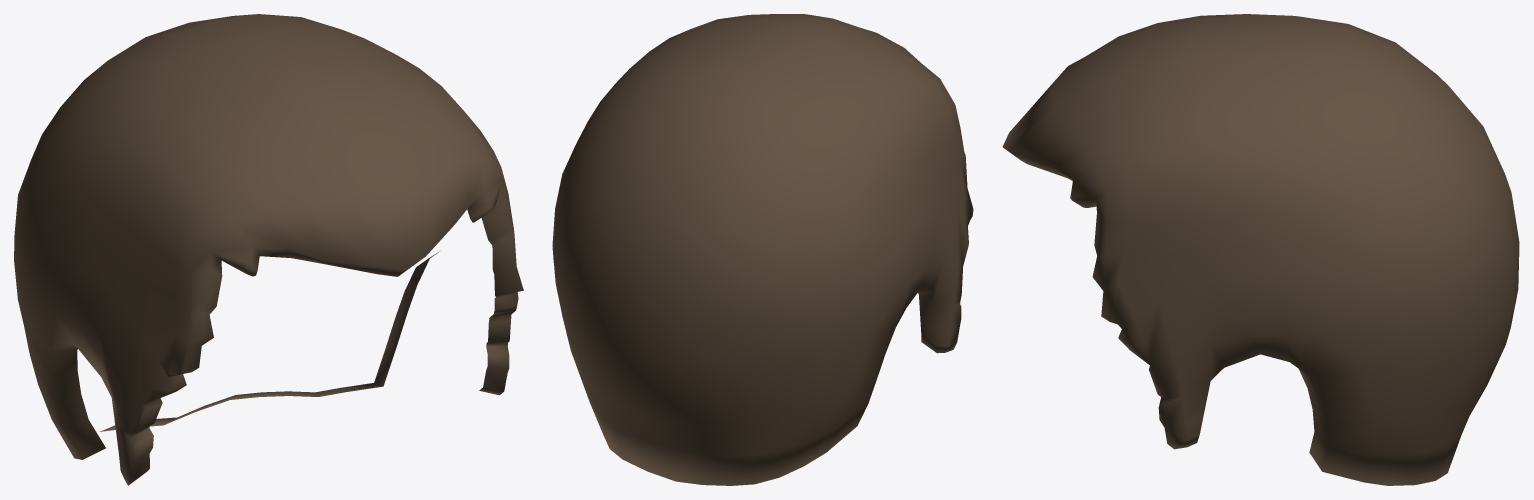
The model's file is hair_buzzed.glb.
3 renders of one model, left to right at view 1: azimuth 30°, elevation 25°; view 2: azimuth 150°, elevation 25°; view 3: azimuth 270°, elevation 25°, orthographic. The views are drawn at different scales.
Parts seen in each view (by area): view 1: Hair_Buzzed; view 2: Hair_Buzzed; view 3: Hair_Buzzed.
Boxes of the visible parts, x1=… form: Hair_Buzzed: x1=14, y1=14, x2=523, y2=485; Hair_Buzzed: x1=552, y1=14, x2=973, y2=485; Hair_Buzzed: x1=1002, y1=14, x2=1519, y2=485.
Bounding box in the file's own units: 0.1546 × 0.1694 × 0.1909.
